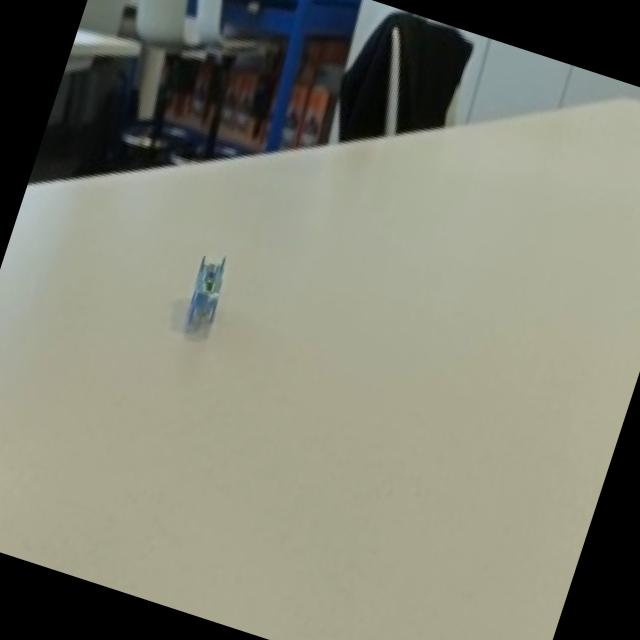3_NanoBug_Celeste: (156, 236, 256, 355)
